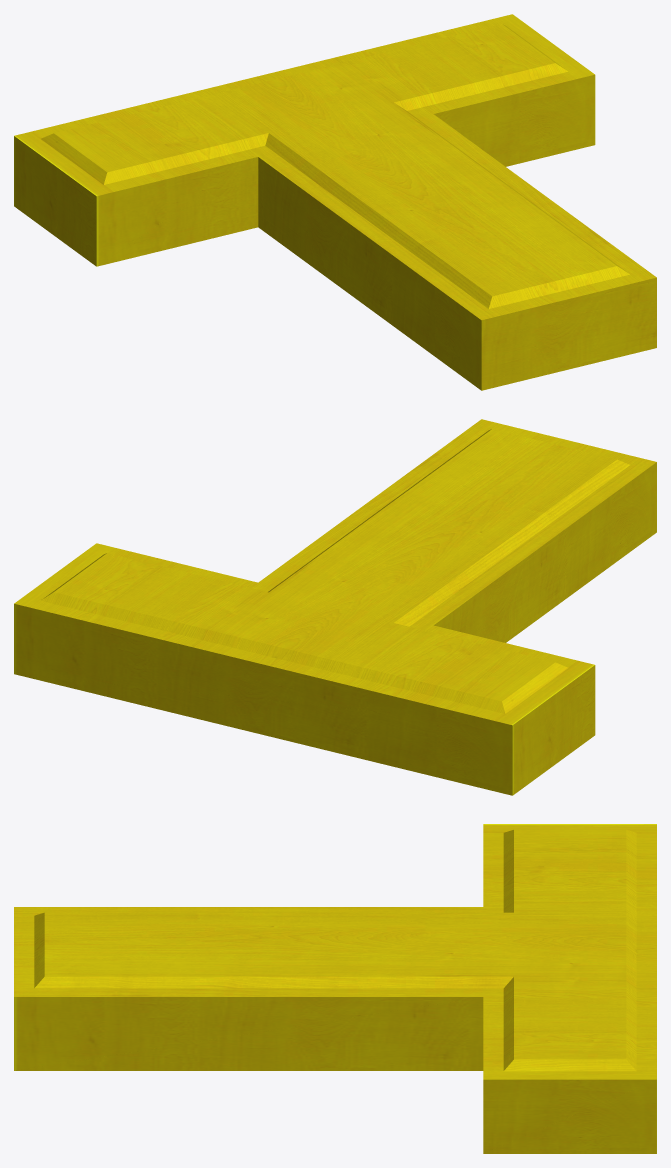
Rendered from Letter 3.fbx.
The picture shows the model from 3 angles, top to bottom: view 1: azimuth 30°, elevation 25°; view 2: azimuth 150°, elevation 25°; view 3: azimuth 270°, elevation 25°; orthographic projection. The views are drawn at different scales.
Parts seen in each view (by area): view 1: Letter 3; view 2: Letter 3; view 3: Letter 3.
Boxes of the visible parts, left/top/right/bottom form: Letter 3: left=14, top=14, right=656, bottom=390; Letter 3: left=14, top=419, right=656, bottom=795; Letter 3: left=14, top=824, right=656, bottom=1153.
Size of the model in its own units: 148 by 22 by 157.
Materials: 1 (1 with a texture image).
